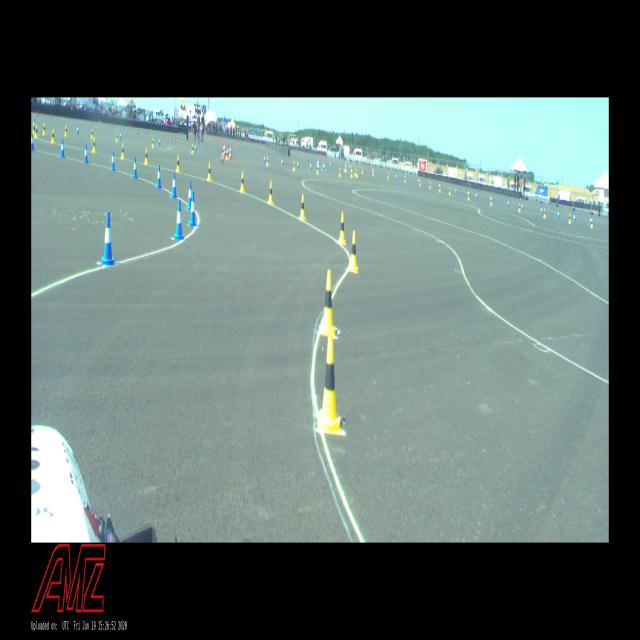blue_cone: (100, 211, 115, 266), (173, 200, 184, 240), (188, 191, 196, 226), (155, 164, 162, 189), (172, 172, 178, 197), (187, 180, 192, 210), (132, 157, 138, 178), (110, 151, 116, 171), (60, 139, 65, 158), (84, 144, 88, 163), (31, 133, 35, 150), (322, 163, 326, 172), (158, 138, 161, 147), (557, 210, 560, 219), (573, 213, 576, 222), (540, 206, 543, 215), (317, 159, 319, 171), (77, 124, 79, 135), (281, 157, 283, 167), (264, 154, 266, 164), (590, 216, 592, 226), (120, 131, 122, 140), (296, 160, 298, 169), (507, 199, 509, 208), (475, 191, 477, 200), (489, 195, 491, 204), (194, 143, 196, 151), (310, 162, 312, 170), (521, 202, 523, 210), (454, 187, 456, 194), (418, 178, 420, 185), (395, 173, 397, 180), (33, 119, 35, 123)
large_orange_cone: (223, 144, 225, 160), (229, 145, 231, 160), (224, 142, 226, 156)
yellow_cone: (318, 333, 340, 429), (320, 270, 336, 335), (348, 230, 358, 273), (338, 212, 346, 244), (299, 193, 306, 220), (268, 181, 273, 204), (175, 155, 181, 173), (240, 172, 245, 193), (144, 148, 149, 166), (207, 163, 212, 181), (92, 137, 96, 153), (121, 143, 125, 159), (51, 128, 55, 143), (42, 122, 46, 136), (32, 122, 36, 135), (64, 125, 68, 137), (90, 128, 94, 139), (292, 161, 296, 172), (35, 124, 38, 138), (115, 132, 119, 142), (568, 214, 572, 224), (590, 218, 594, 227), (518, 202, 521, 213), (266, 156, 269, 167), (338, 168, 341, 178), (191, 144, 194, 154), (543, 208, 546, 218), (448, 187, 451, 196), (344, 164, 347, 173), (152, 138, 154, 147), (351, 169, 353, 178), (354, 167, 356, 176), (226, 150, 228, 159), (404, 175, 406, 184), (468, 192, 470, 201), (490, 197, 492, 206), (316, 166, 318, 175), (419, 178, 421, 187), (429, 181, 431, 189), (439, 185, 441, 193), (362, 166, 364, 174), (356, 169, 358, 177), (387, 172, 389, 179), (372, 170, 374, 176), (351, 164, 352, 173)
